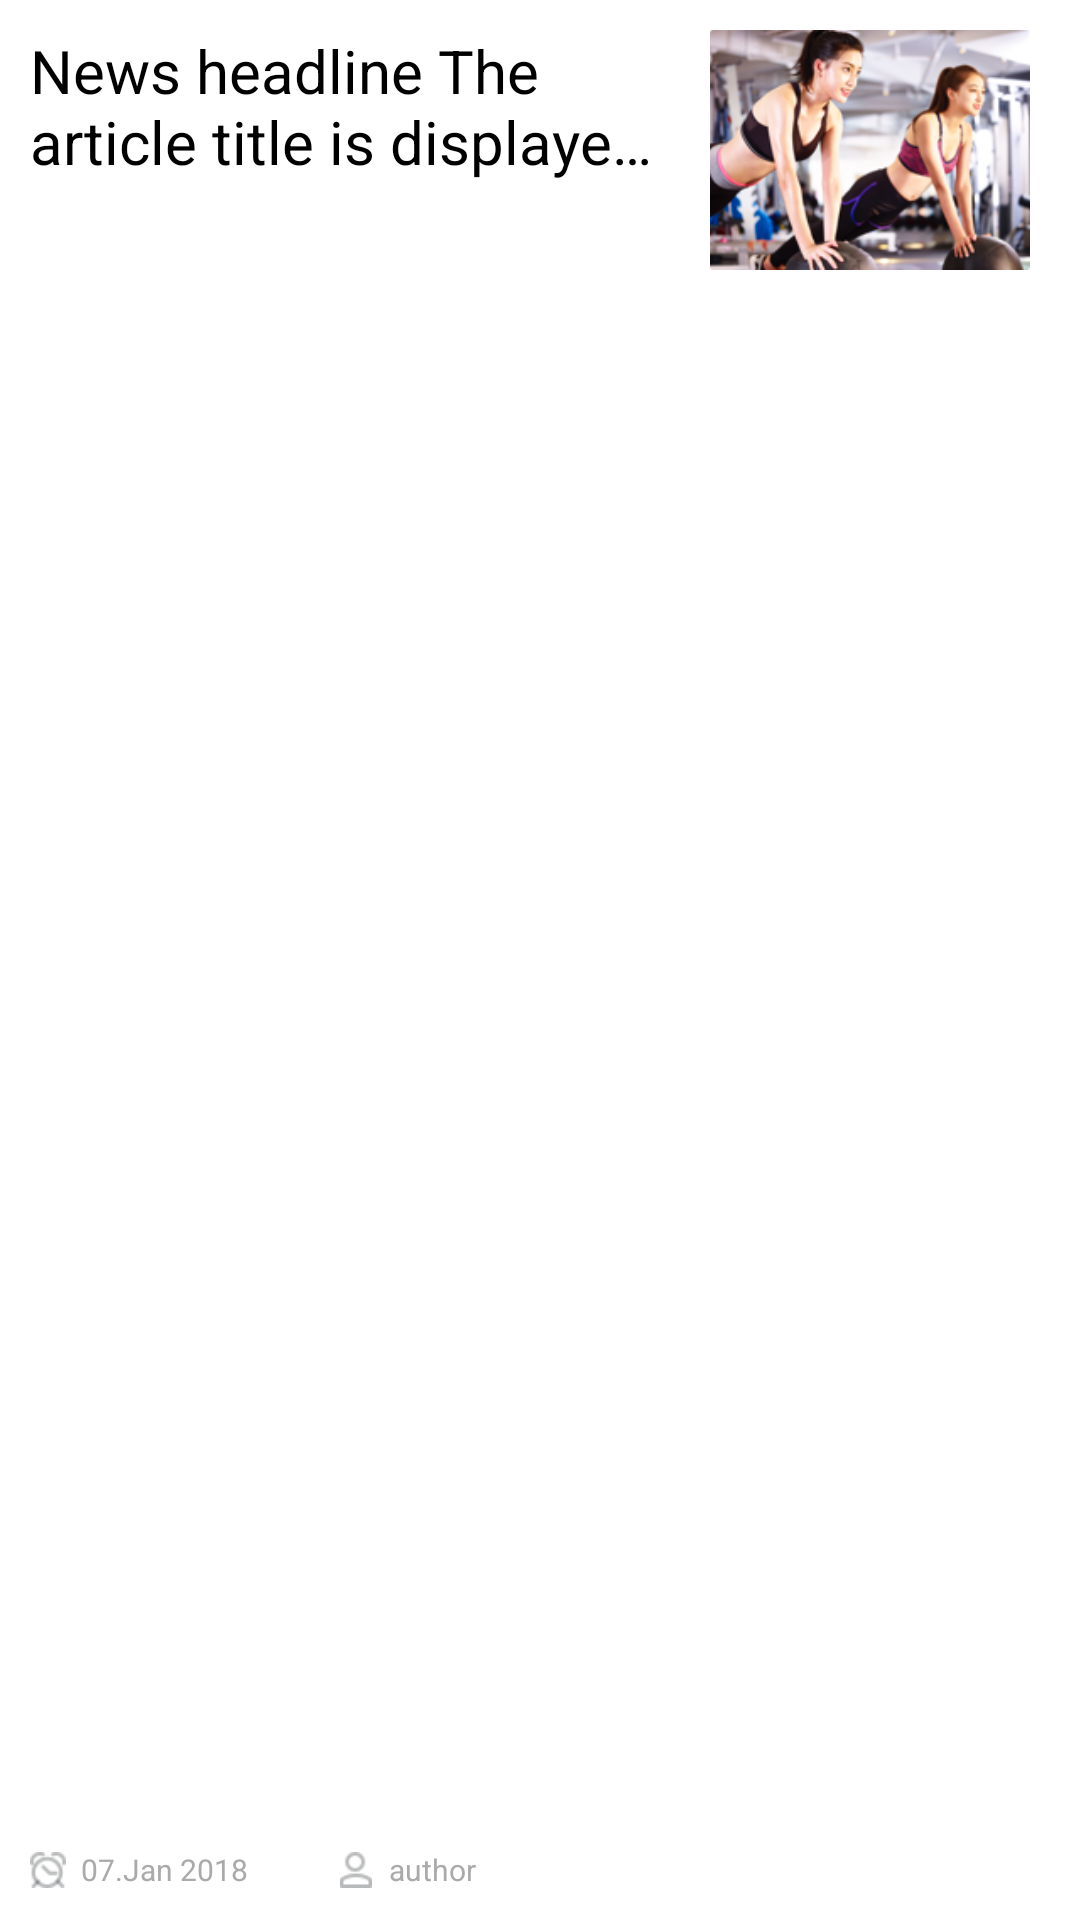

Named icons in this screenshot (1080x1920) and their centers, (x=x, y=y):
news pic: (x=870, y=150)
time: (x=48, y=1870)
